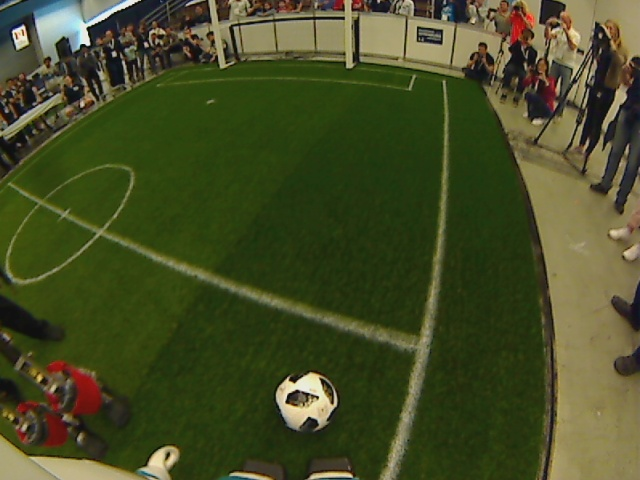ball: (273, 366, 340, 437)
